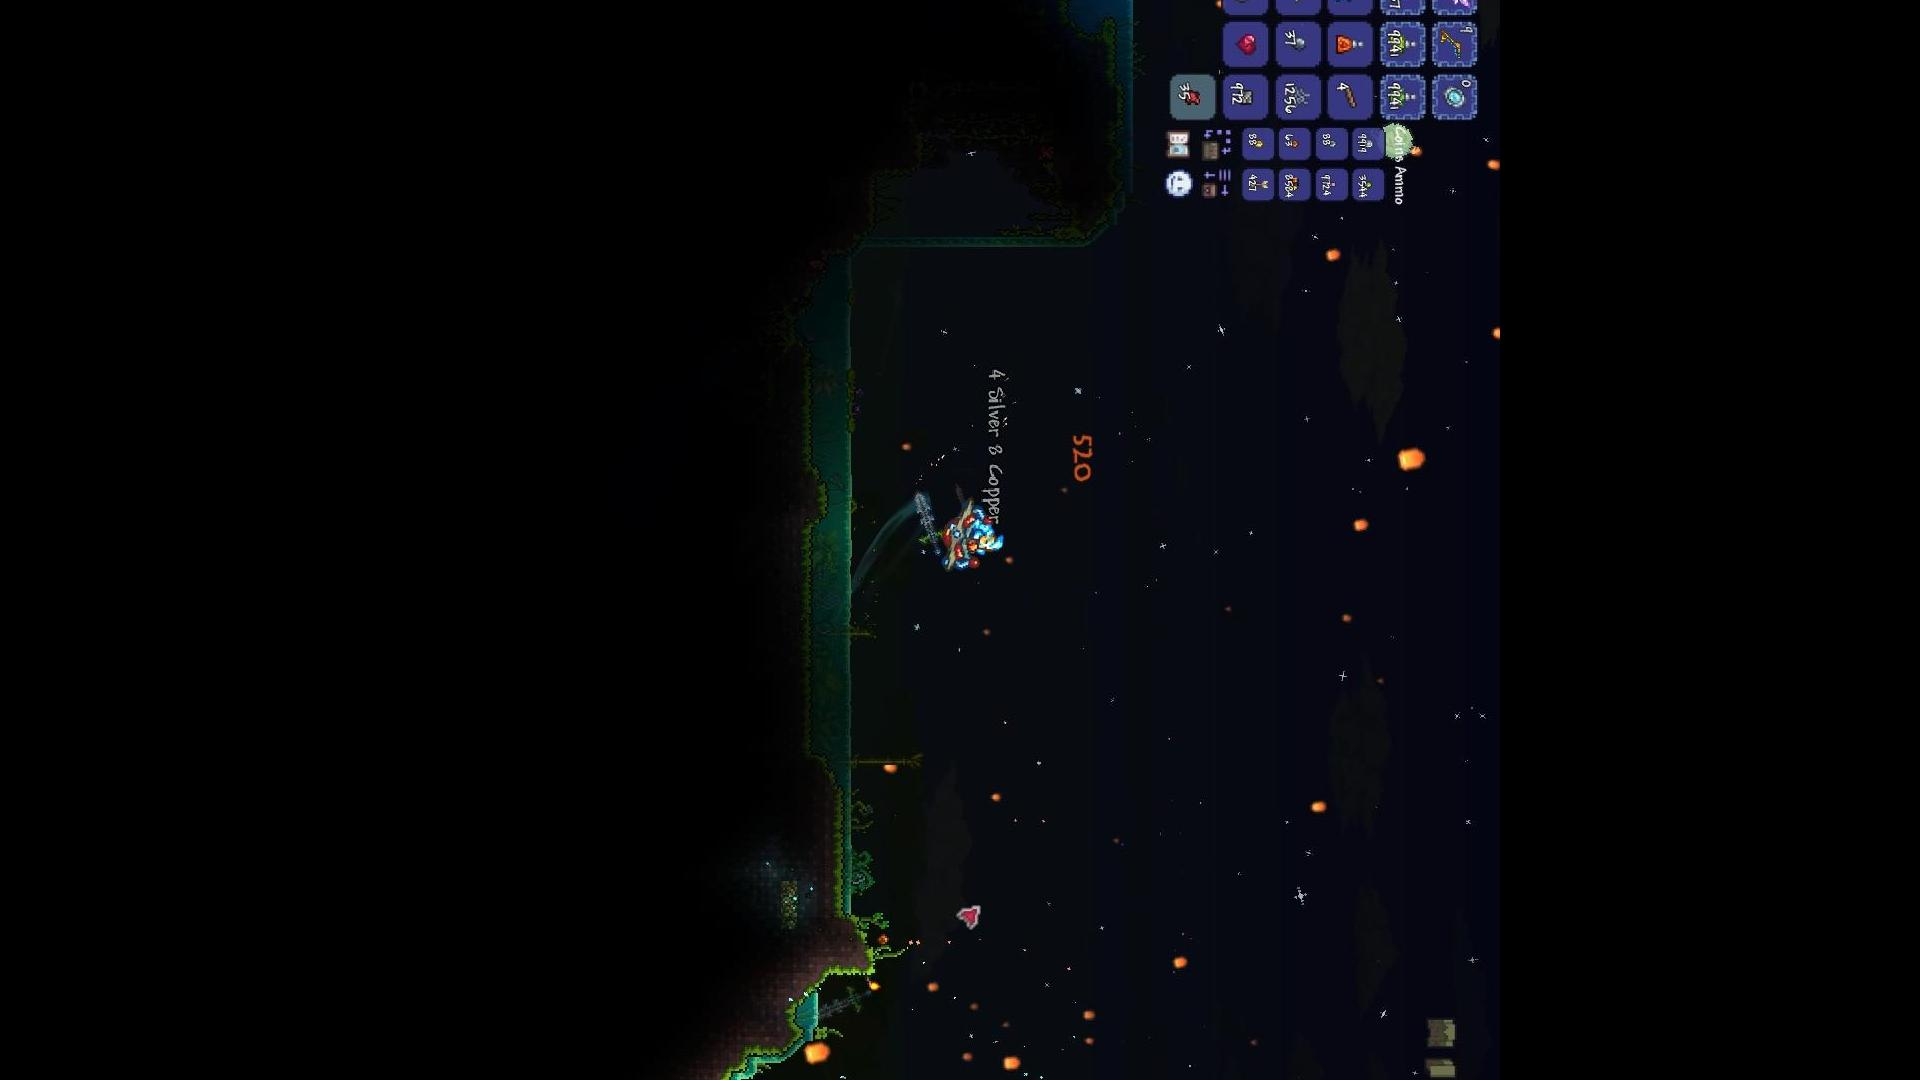lens: (843, 870, 873, 889)
mirror: (1441, 84, 1470, 109)
